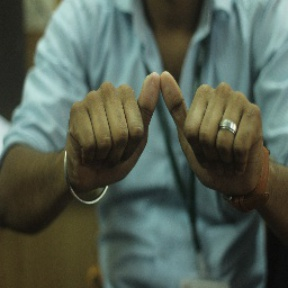A: (77, 67, 263, 183)
